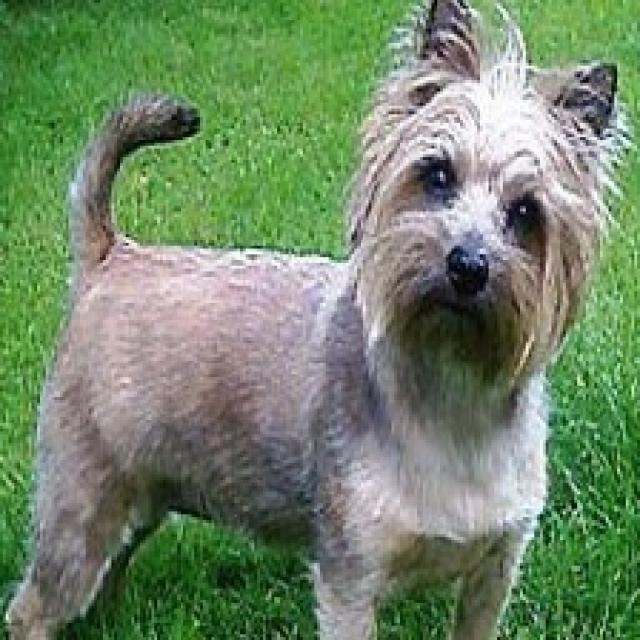cho khoe manh: (54, 48, 639, 640)
